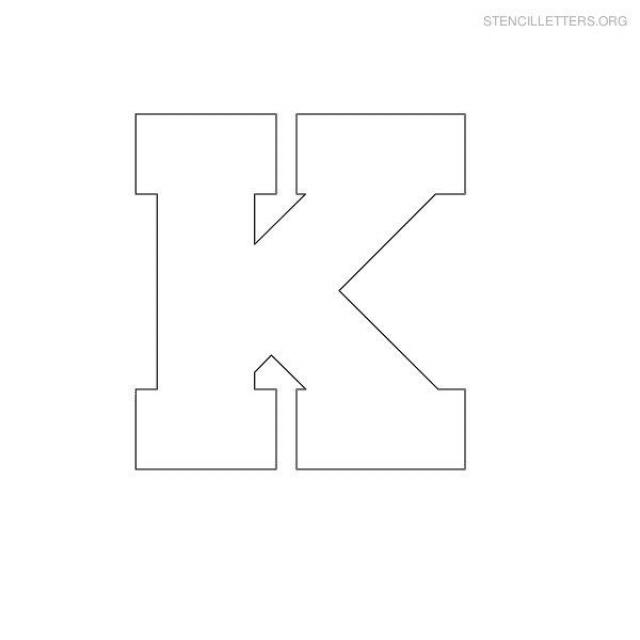K: (73, 51, 517, 515)
